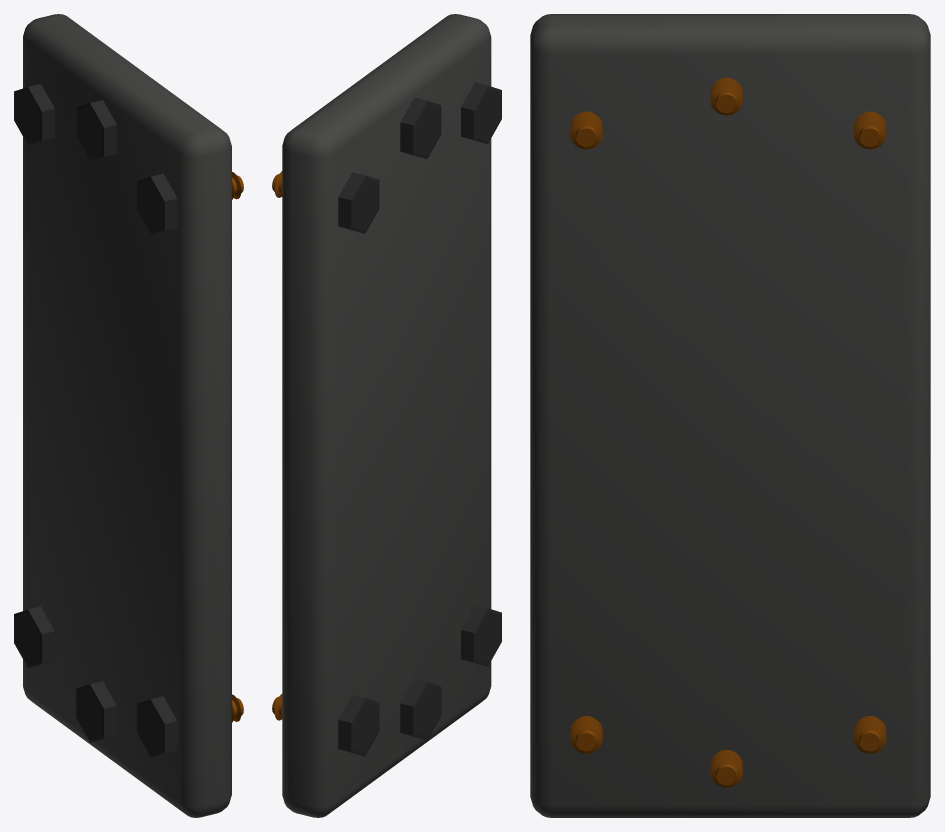
File: Задняя панель.fbx
The picture shows the model from 3 angles, left to right: view 1: azimuth 30°, elevation 25°; view 2: azimuth 150°, elevation 25°; view 3: azimuth 270°, elevation 25°; orthographic projection. The views are drawn at different scales.
Visible parts, largest first — view 1: Cube_13, Задняя_панель; view 2: Cube_13, Задняя_панель; view 3: Cube_13, Задняя_панель.
Boxes of the visible parts, x1=… form: Cube_13: x1=23, y1=14, x2=231, y2=817; Задняя_панель: x1=14, y1=84, x2=243, y2=757; Cube_13: x1=282, y1=14, x2=491, y2=817; Задняя_панель: x1=272, y1=82, x2=501, y2=756; Cube_13: x1=530, y1=14, x2=930, y2=817; Задняя_панель: x1=570, y1=77, x2=886, y2=787.
Bounding box in the file's own units: 15.95 × 117 × 53.61.
